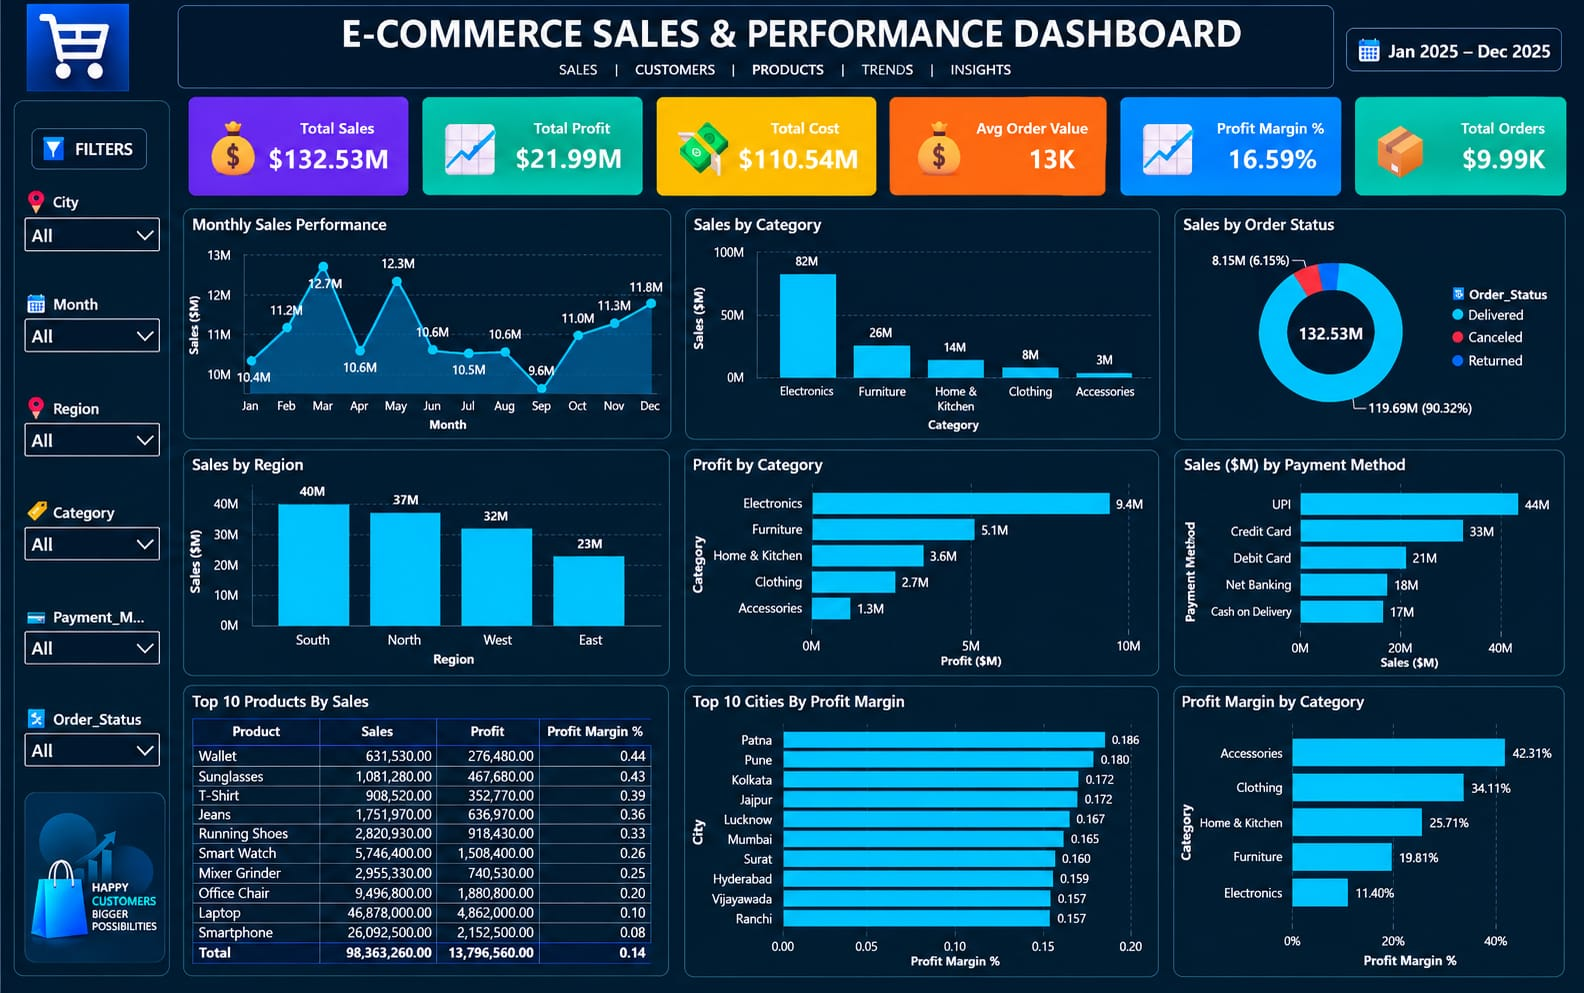

The dashboard page shown, as its layout file describes it:
{"tool":"powerbi","page":{"name":"Page 1","canvas":[2000,1250],"ordinal":0},"visuals":[{"type":"textbox","box":[24,120,192,1104],"z":0},{"type":"cardVisual","fields":{"Data":["cleaned ecommerce datset.Total Sales"]},"box":[264,120,260,120],"z":0,"group":"g1"},{"type":"cardVisual","fields":{"Data":["cleaned ecommerce datset.Total Profit"]},"box":[552,120,260,120],"z":0,"group":"g2"},{"type":"cardVisual","fields":{"Data":["cleaned ecommerce datset.Total Cost"]},"box":[840,120,260,120],"z":0,"group":"g3"},{"type":"cardVisual","fields":{"Data":["cleaned ecommerce datset.Average Order Value"]},"box":[1128,120,260,120],"z":0,"group":"g4"},{"type":"cardVisual","fields":{"Data":["cleaned ecommerce datset.Profit Margin %"]},"box":[1416,120,264,120],"z":0,"group":"g5"},{"type":"textbox","box":[272,136,80,96],"z":1000,"group":"g1"},{"type":"textbox","box":[560.8,136,80,96],"z":1000,"group":"g2"},{"type":"textbox","box":[849.6,136,80,96],"z":1000,"group":"g3"},{"type":"textbox","box":[1144,136,80,96],"z":1000,"group":"g4"},{"type":"textbox","box":[1427.2,136,96,96],"z":1000,"group":"g5"},{"type":"slicer","fields":{"Values":["cleaned ecommerce datset.City"]},"box":[32,240,176,80],"z":1000},{"type":"slicer","fields":{"Values":["cleaned ecommerce datset.Month"]},"box":[32,368,176,80],"z":2000},{"type":"slicer","fields":{"Values":["cleaned ecommerce datset.Region"]},"box":[32,496,176,80],"z":3000},{"type":"slicer","fields":{"Values":["cleaned ecommerce datset.Category"]},"box":[32,624,176,80],"z":4000},{"type":"slicer","fields":{"Values":["cleaned ecommerce datset.Payment_Method"]},"box":[32,752,176,80],"z":5000},{"type":"slicer","fields":{"Values":["cleaned ecommerce datset.Order_Status"]},"box":[32,880,176,80],"z":6000},{"type":"cardVisual","fields":{"Data":["cleaned ecommerce datset.Total Orders"]},"box":[1704,120,264,120],"z":7000},{"type":"textbox","box":[48,168,128,48],"z":8000},{"type":"areaChart","title":"Monthly Sales Performance","fields":{"Y":["Sum(cleaned ecommerce datset.Sales)"],"Category":["cleaned ecommerce datset.Month_Name"]},"box":[240,264,600,264],"z":9000},{"type":"columnChart","title":"Sales by Category","fields":{"Category":["cleaned ecommerce datset.Category"],"Y":["Sum(cleaned ecommerce datset.Sales)"]},"box":[864,264,600,264],"z":10000},{"type":"donutChart","title":"Sales by Order Status","fields":{"Category":["cleaned ecommerce datset.Order_Status"],"Y":["Sum(cleaned ecommerce datset.Sales)"]},"box":[1488,264,480,264],"z":11000},{"type":"columnChart","title":"Sales by  Region","fields":{"Category":["cleaned ecommerce datset.Region"],"Y":["Sum(cleaned ecommerce datset.Sales)"]},"box":[240,552,600,288],"z":12000},{"type":"barChart","fields":{"Category":["cleaned ecommerce datset.Payment_Method"],"Y":["Sum(cleaned ecommerce datset.Sales)"]},"box":[1488,552,480,288],"z":13000},{"type":"barChart","title":"Profit by Category","fields":{"Category":["cleaned ecommerce datset.Category"],"Y":["Sum(cleaned ecommerce datset.Profit)"]},"box":[864,552,600,288],"z":14000},{"type":"clusteredBarChart","title":"Top 10 Cities By Profit Margin","fields":{"Category":["cleaned ecommerce datset.City"],"Y":["cleaned ecommerce datset.Profit Margin %"]},"box":[864,864,600,360],"z":15000},{"type":"clusteredBarChart","title":"Profit Margin  by  Category","fields":{"Category":["cleaned ecommerce datset.Category"],"Y":["cleaned ecommerce datset.Profit Margin %"]},"box":[1488,864,480,360],"z":16000},{"type":"image","box":[32,0,128,112],"z":17000},{"type":"tableEx","title":"Top 10 Products By Sales","fields":{"Values":["cleaned ecommerce datset.Product","Sum(cleaned ecommerce datset.Sales)","Sum(cleaned ecommerce datset.Profit)","cleaned ecommerce datset.Profit Margin %"]},"box":[240,864,600,360],"z":18000},{"type":"textbox","box":[1712,144,88,88],"z":19000},{"type":"group","id":"g1","title":"TS","box":[264,120,264,120],"z":21000},{"type":"group","id":"g2","title":"TP","box":[552,120,240,120],"z":22000},{"type":"group","id":"g3","title":"TC","box":[840,120,264,120],"z":23000},{"type":"group","id":"g4","title":"AV","box":[1128,120,264,120],"z":24000},{"type":"group","id":"g5","title":"PM","box":[1416,120,264,120],"z":25000},{"type":"textbox","box":[224,0,1464,112],"z":26000},{"type":"textbox","box":[648,72,712,32],"z":27000},{"type":"image","box":[40,1008,152,192],"z":28000},{"type":"textbox","box":[1704,40,264,48],"z":29000}]}

Visuals, with their boxes in screenshot pixels (x1, y1, x2, y2), scaled from the page's 2000x1250 canvas onto the 1584x993 screenshot:
textbox: region(19, 95, 171, 972)
cardVisual - cleaned ecommerce datset.Total Sales: region(209, 95, 415, 191)
cardVisual - cleaned ecommerce datset.Total Profit: region(437, 95, 643, 191)
cardVisual - cleaned ecommerce datset.Total Cost: region(665, 95, 871, 191)
cardVisual - cleaned ecommerce datset.Average Order Value: region(893, 95, 1099, 191)
cardVisual - cleaned ecommerce datset.Profit Margin %: region(1121, 95, 1331, 191)
textbox: region(215, 108, 279, 184)
textbox: region(444, 108, 508, 184)
textbox: region(673, 108, 736, 184)
textbox: region(906, 108, 969, 184)
textbox: region(1130, 108, 1206, 184)
slicer - cleaned ecommerce datset.City: region(25, 191, 165, 254)
slicer - cleaned ecommerce datset.Month: region(25, 292, 165, 356)
slicer - cleaned ecommerce datset.Region: region(25, 394, 165, 458)
slicer - cleaned ecommerce datset.Category: region(25, 496, 165, 559)
slicer - cleaned ecommerce datset.Payment_Method: region(25, 597, 165, 661)
slicer - cleaned ecommerce datset.Order_Status: region(25, 699, 165, 763)
cardVisual - cleaned ecommerce datset.Total Orders: region(1350, 95, 1559, 191)
textbox: region(38, 133, 139, 172)
"Monthly Sales Performance" areaChart: region(190, 210, 665, 419)
"Sales by Category" columnChart: region(684, 210, 1159, 419)
"Sales by Order Status" donutChart: region(1178, 210, 1559, 419)
"Sales by  Region" columnChart: region(190, 439, 665, 667)
barChart - cleaned ecommerce datset.Payment_Method x Sum(cleaned ecommerce datset.Sales): region(1178, 439, 1559, 667)
"Profit by Category" barChart: region(684, 439, 1159, 667)
"Top 10 Cities By Profit Margin" clusteredBarChart: region(684, 686, 1159, 972)
"Profit Margin  by  Category" clusteredBarChart: region(1178, 686, 1559, 972)
image: region(25, 0, 127, 89)
"Top 10 Products By Sales" tableEx: region(190, 686, 665, 972)
textbox: region(1356, 114, 1426, 184)
"TS" group: region(209, 95, 418, 191)
"TP" group: region(437, 95, 627, 191)
"TC" group: region(665, 95, 874, 191)
"AV" group: region(893, 95, 1102, 191)
"PM" group: region(1121, 95, 1331, 191)
textbox: region(177, 0, 1337, 89)
textbox: region(513, 57, 1077, 83)
image: region(32, 801, 152, 953)
textbox: region(1350, 32, 1559, 70)
